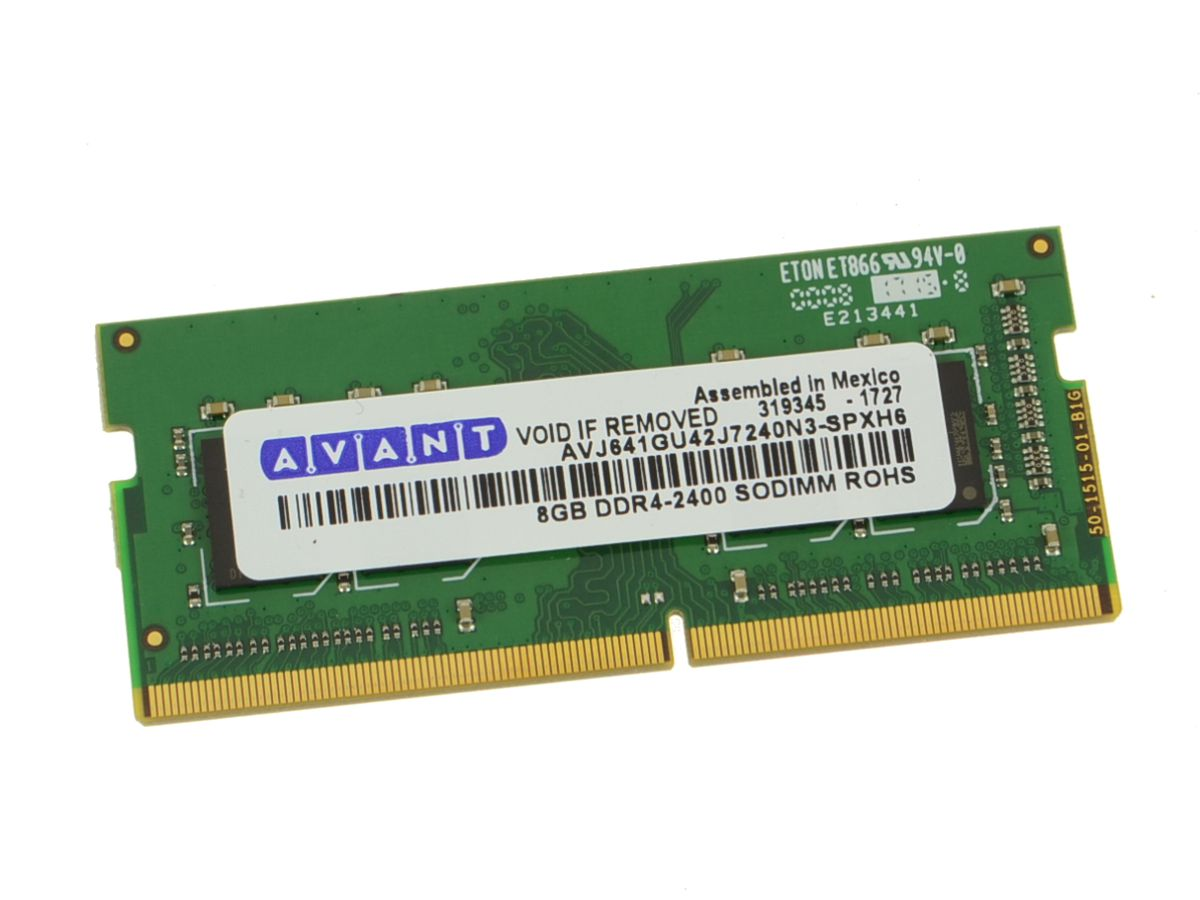Notebook RAM: (52, 215, 1138, 735)
